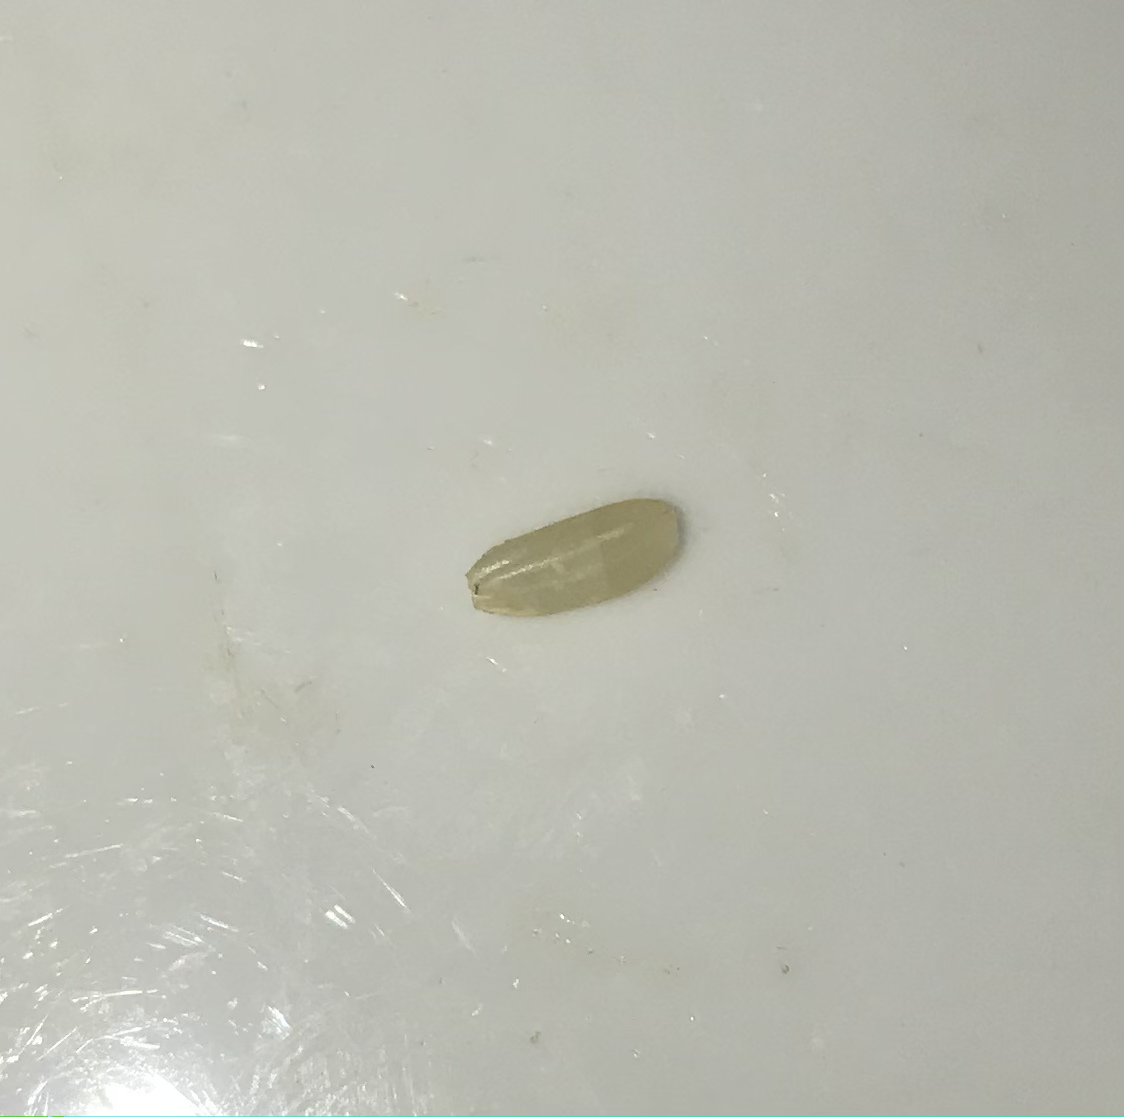Gao Lut Trang: (454, 480, 691, 658)
